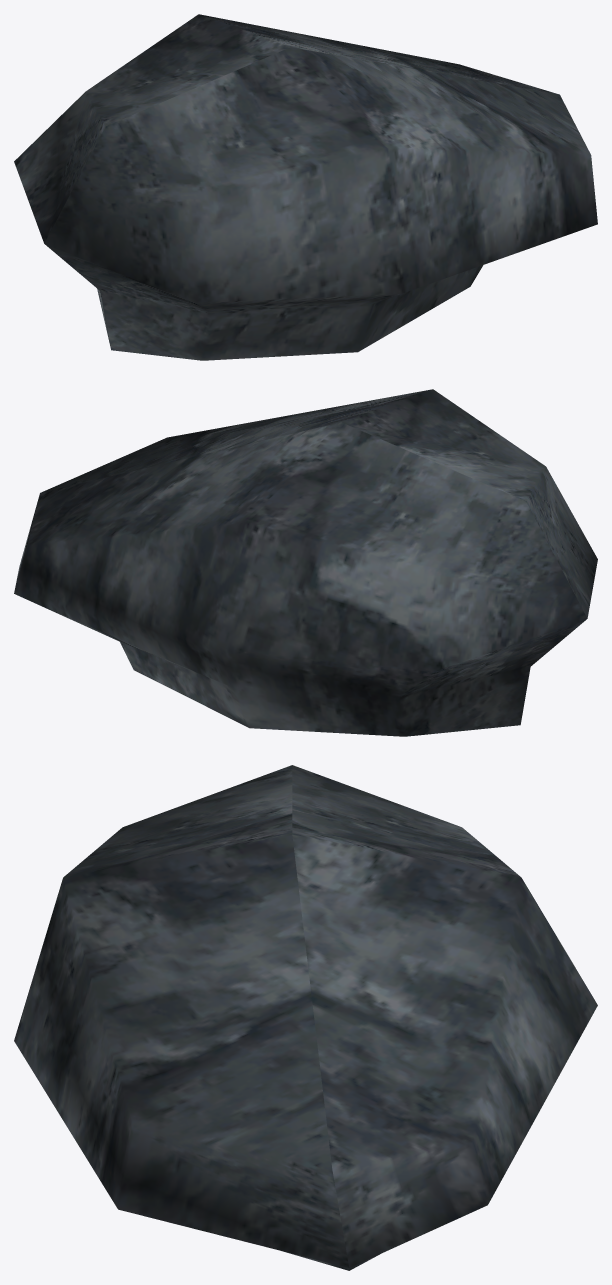
The model's file is environment_stone_shanti_004_e.FBX.
3 views of the same model, one above another, from view 1: azimuth 30°, elevation 25°; view 2: azimuth 150°, elevation 25°; view 3: azimuth 270°, elevation 25° (orthographic). The views are drawn at different scales.
Visible parts, largest first — view 1: environment_stone_shanti_004_e; view 2: environment_stone_shanti_004_e; view 3: environment_stone_shanti_004_e.
Part boxes in pixels (x1=…): environment_stone_shanti_004_e: x1=14, y1=14, x2=597, y2=360; environment_stone_shanti_004_e: x1=14, y1=389, x2=597, y2=736; environment_stone_shanti_004_e: x1=14, y1=765, x2=597, y2=1270.
Size of the model in its own units: 341 by 163 by 253.
1 material, 1 textured.
